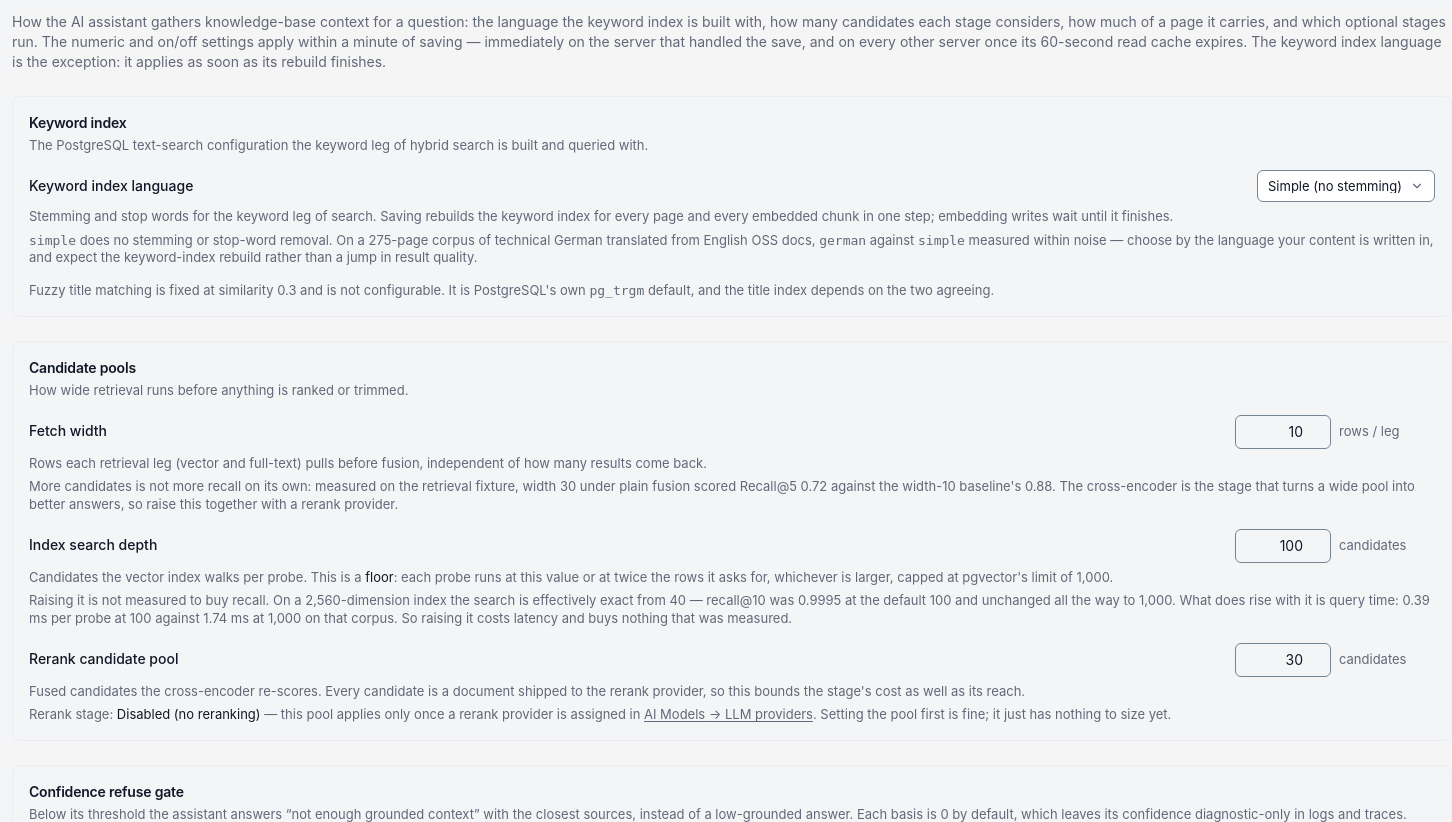
Test: RetrievalTab — keyword index language (#1114) › carries the amber strip glyph, not colour alone
The image size is (1452, 822).
Select "German" in the dropdown with test id "retrieval-ftsLanguage": coordinates (1346, 186) x1=1257 y1=170 x2=1435 y2=202
(page scrolled)
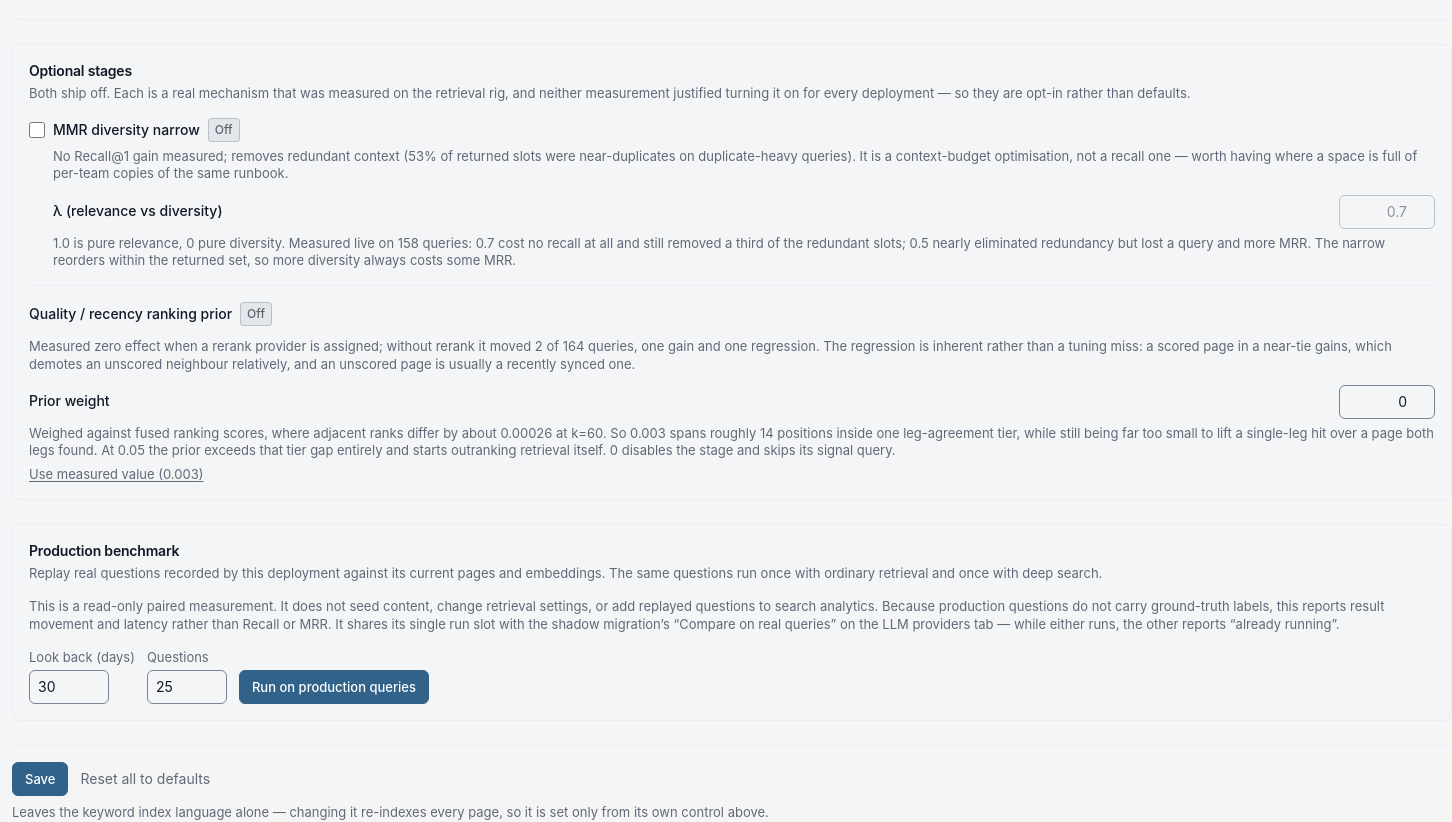
Click the button with test id "retrieval-save-btn": coordinates (40, 779) x1=12 y1=762 x2=68 y2=796
(page scrolled)
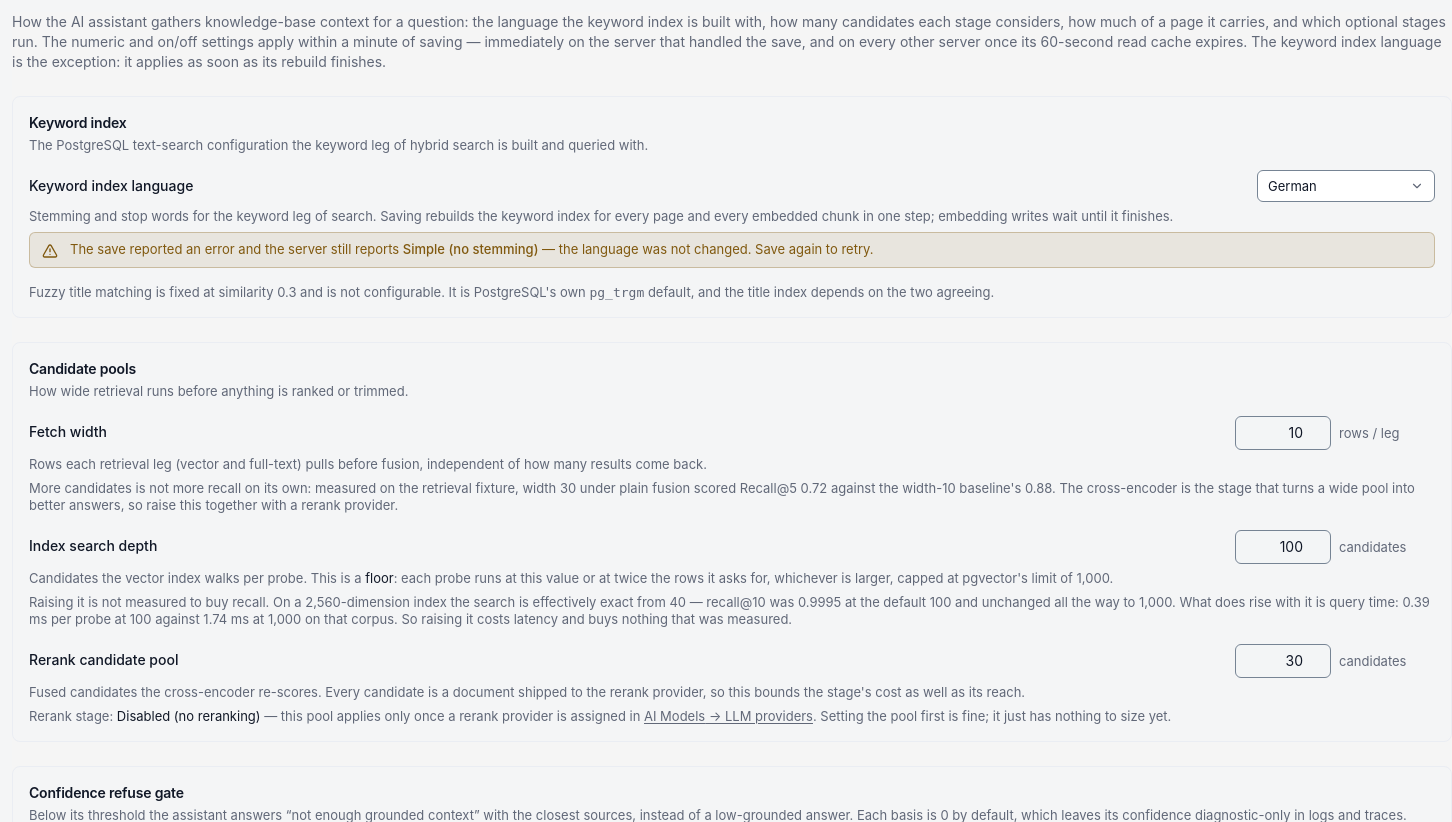
Check: the icon is shown, box x1=42 y1=243 x2=58 y2=259
